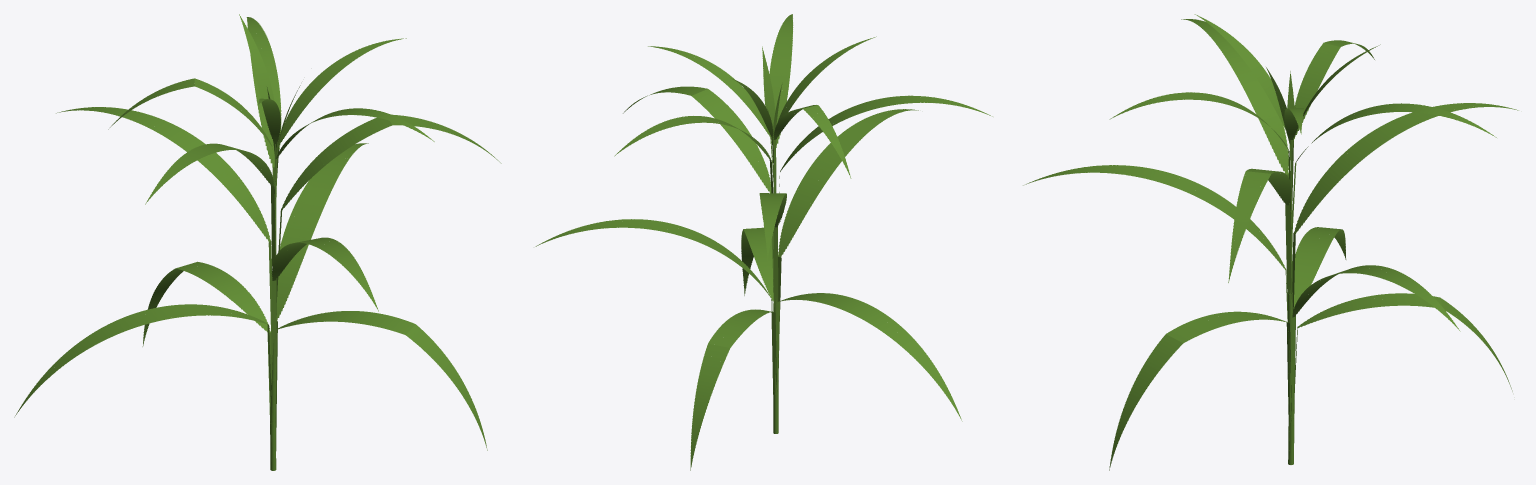
File: maize_004_day_095.dae
3 renders of one model, left to right at view 1: azimuth 30°, elevation 25°; view 2: azimuth 150°, elevation 25°; view 3: azimuth 270°, elevation 25°, orthographic. The views are drawn at different scales.
Parts seen in each view (by area): view 1: node; view 2: node; view 3: node.
Part boxes in pixels (x1,y1,x2,y2): node: [14, 14, 501, 470]; node: [535, 14, 992, 470]; node: [1023, 14, 1518, 470].
Size of the model in its own units: 1.67 by 1.55 by 1.66.
1 material, 1 textured.
